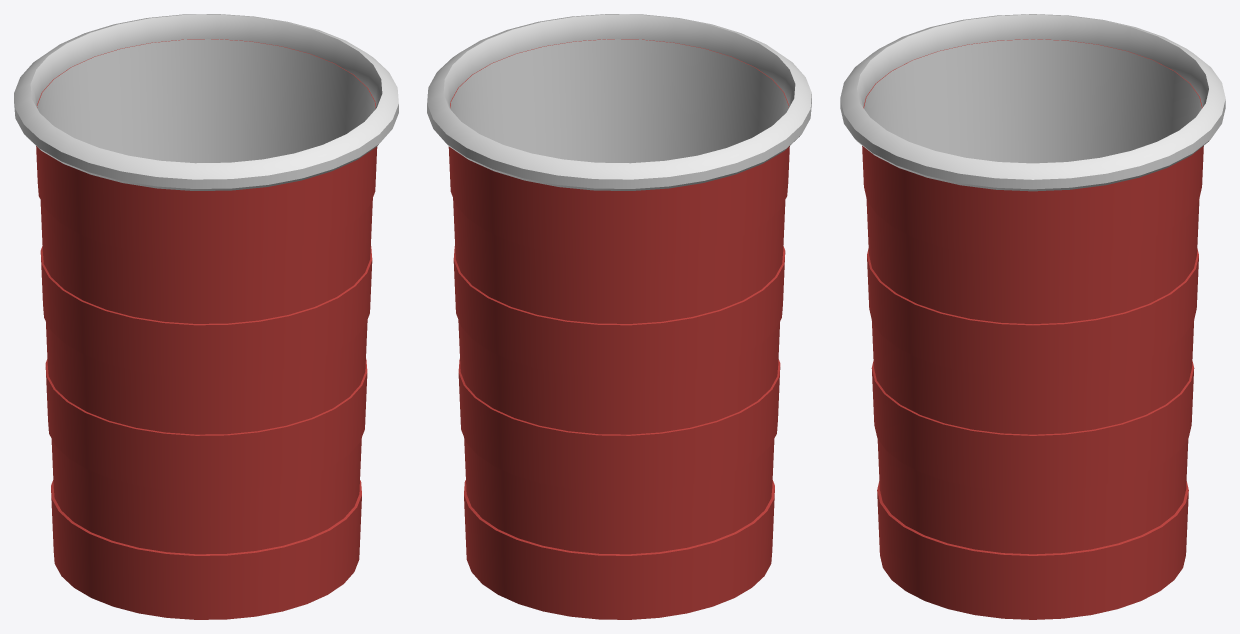
The model's file is Beer pong cup.fbx.
The picture shows the model from 3 angles, left to right: view 1: azimuth 30°, elevation 25°; view 2: azimuth 150°, elevation 25°; view 3: azimuth 270°, elevation 25°; orthographic projection.
Visible parts, largest first — view 1: Cylinder; view 2: Cylinder; view 3: Cylinder.
Part boxes in pixels (x1=…): Cylinder: x1=14, y1=14, x2=398, y2=619; Cylinder: x1=427, y1=14, x2=811, y2=619; Cylinder: x1=840, y1=14, x2=1225, y2=619.
Bounding box in the file's own units: 252 × 336 × 252.
